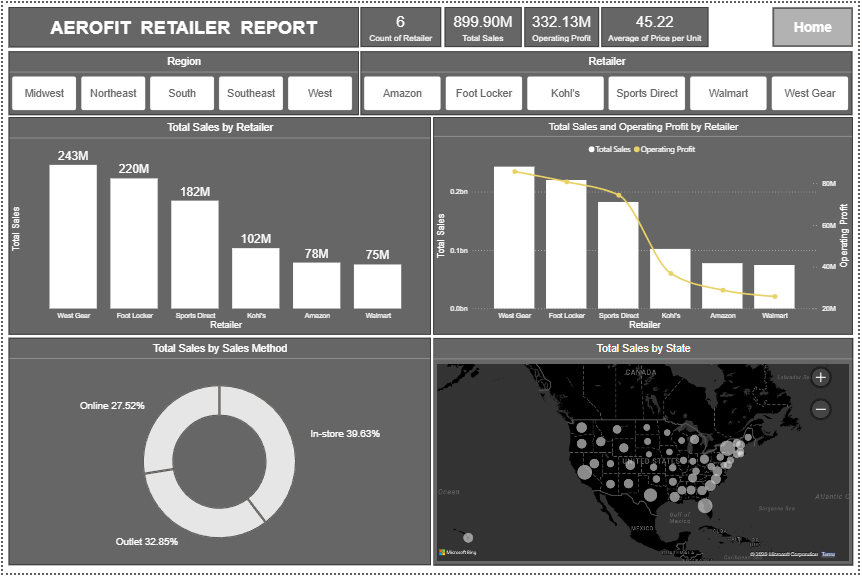

This screenshot's page, from the dashboard's own definition file:
{"tool":"powerbi","page":{"name":"Regional Page","canvas":[1500,1000],"ordinal":2},"visuals":[{"type":"textbox","box":[10.6,8.5,740.4,68.1],"z":0},{"type":"actionButton","box":[1349.7,8.4,141.3,69.6],"z":1000},{"type":"card","fields":{"Values":["Sum(Adidas_Sales.Total Sales)"]},"box":[380.9,80.9,151.1,87.2],"z":2000},{"type":"card","fields":{"Values":["Sum(Adidas_Sales.Operating Profit)"]},"box":[755.3,80.9,144.7,87.2],"z":3000},{"type":"card","fields":{"Values":["Avg(Adidas_Sales.Price per Unit)"]},"box":[536.2,80.9,214.9,87.2],"z":4000},{"type":"clusteredBarChart","fields":{"Y":["Sum(AeroFit_Sales.Total Sales)"],"Category":["AeroFit_Sales.Retailer"]},"box":[10.2,174,741.5,382],"z":5000},{"type":"lineClusteredColumnComboChart","fields":{"Y":["Sum(Adidas_Sales.Total Sales)"],"Y2":["Sum(Adidas_Sales.Operating Profit)"],"Category":["AeroFit_Sales.Region"]},"box":[755.8,173.6,735.4,382],"z":6000},{"type":"map","fields":{"Category":["Adidas_Sales.State"],"Size":["Sum(Adidas_Sales.Total Sales)"]},"box":[10.2,560,1481.1,431],"z":7000},{"type":"actionButton","box":[0,0,100,40],"z":8000},{"type":"card","fields":{"Values":["Min(AeroFit_Sales.Region)"]},"box":[755.3,8.5,570.2,68.1],"z":9000},{"type":"card","fields":{"Values":["Sum(AeroFit_Sales.Units Sold)"]},"box":[904.3,80.9,151.1,87.2],"z":9001}]}

Visuals, with their boxes in screenshot pixels (x1, y1, x2, y2), scaled from the page's 1500x1000 canvas onto the 862x578 screenshot:
textbox: x1=6, y1=5, x2=432, y2=44
actionButton: x1=776, y1=5, x2=857, y2=45
card - Sum(Adidas_Sales.Total Sales): x1=219, y1=47, x2=306, y2=97
card - Sum(Adidas_Sales.Operating Profit): x1=434, y1=47, x2=517, y2=97
card - Avg(Adidas_Sales.Price per Unit): x1=308, y1=47, x2=432, y2=97
clusteredBarChart - Sum(AeroFit_Sales.Total Sales) x AeroFit_Sales.Retailer: x1=6, y1=101, x2=432, y2=321
lineClusteredColumnComboChart - Sum(Adidas_Sales.Total Sales) x Sum(Adidas_Sales.Operating Profit): x1=434, y1=100, x2=857, y2=321
map - Adidas_Sales.State x Sum(Adidas_Sales.Total Sales): x1=6, y1=324, x2=857, y2=573
actionButton: x1=0, y1=0, x2=57, y2=23
card - Min(AeroFit_Sales.Region): x1=434, y1=5, x2=762, y2=44
card - Sum(AeroFit_Sales.Units Sold): x1=520, y1=47, x2=607, y2=97
